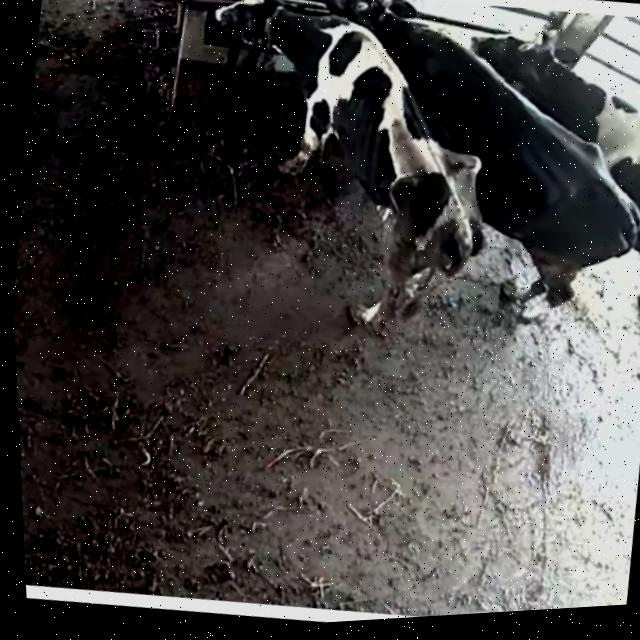drink: (319, 0, 467, 90)
